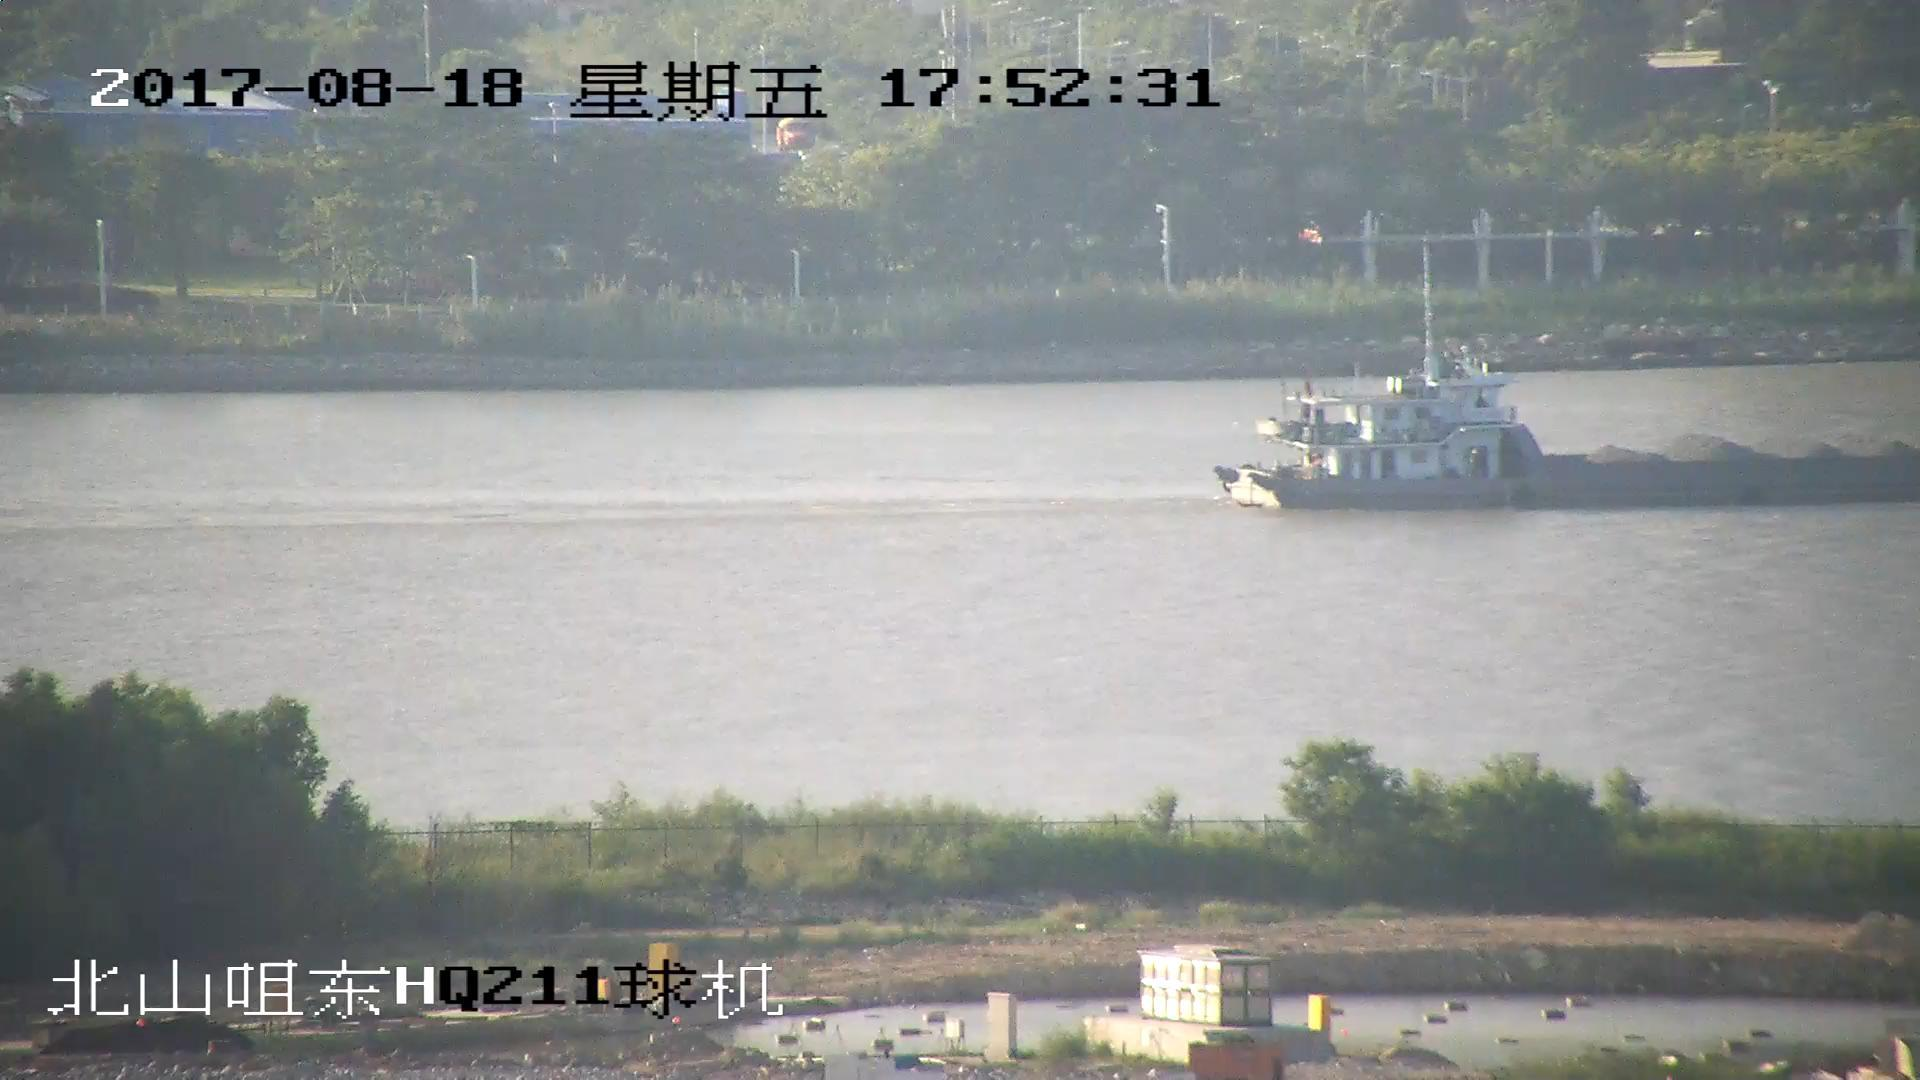Ship: (1217, 281, 1920, 510)
